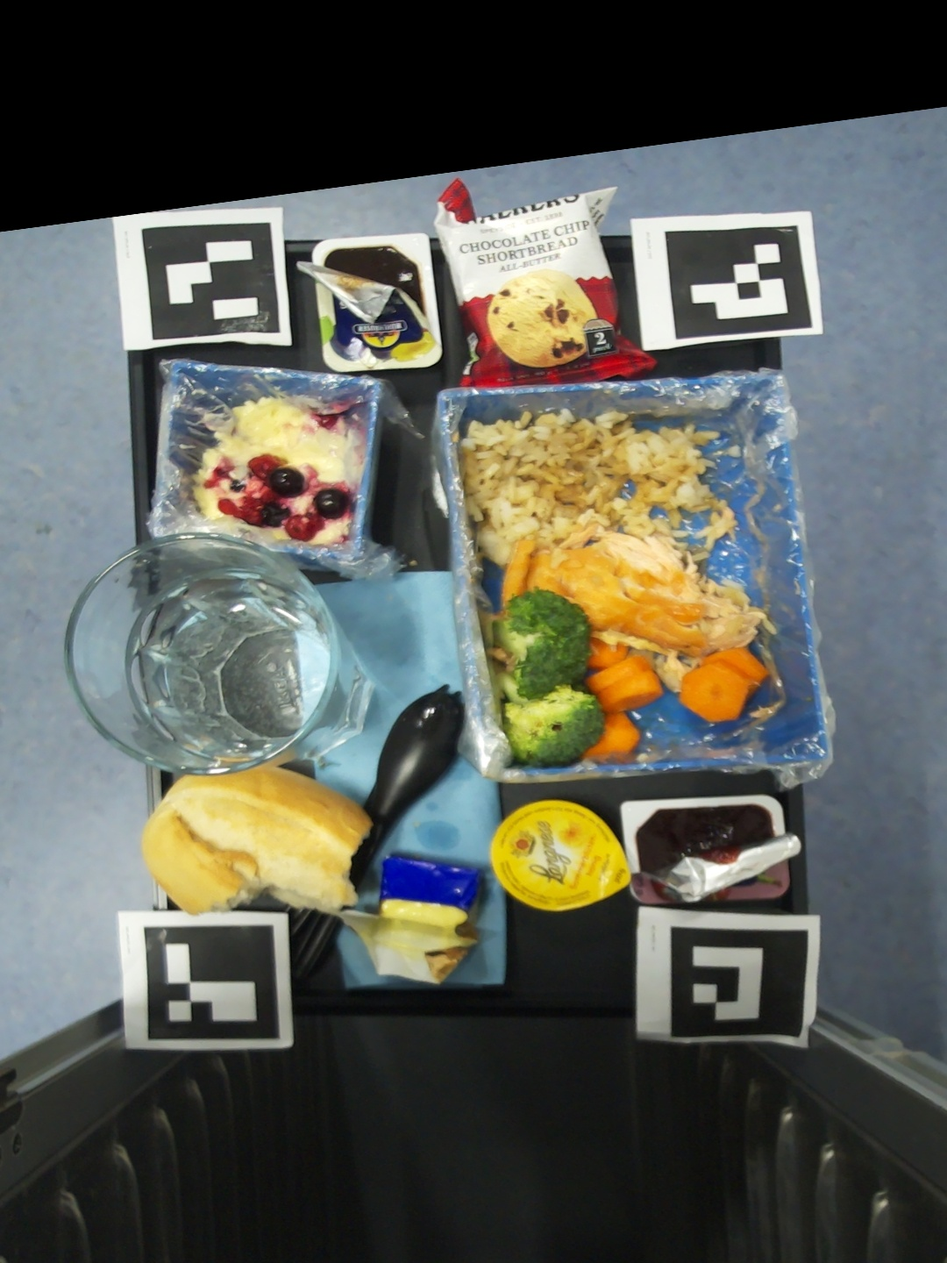bread_roll: (141, 767, 376, 914)
broccoli: (491, 590, 607, 771)
butter: (333, 856, 481, 988)
carrots: (580, 639, 667, 761), (680, 649, 767, 726)
cherry_jam: (620, 795, 801, 904)
cookie: (432, 185, 656, 391)
fish_salmon: (494, 521, 767, 693), (487, 647, 514, 669)
honey: (491, 800, 631, 911)
plum_jam: (296, 233, 442, 372)
rice: (461, 407, 738, 574), (628, 649, 666, 686), (747, 698, 784, 722), (721, 579, 745, 593), (762, 615, 777, 635), (729, 445, 741, 457)
vanilla_pudding_with_fruits: (195, 397, 353, 544)
water_bottle: (67, 540, 376, 776)
